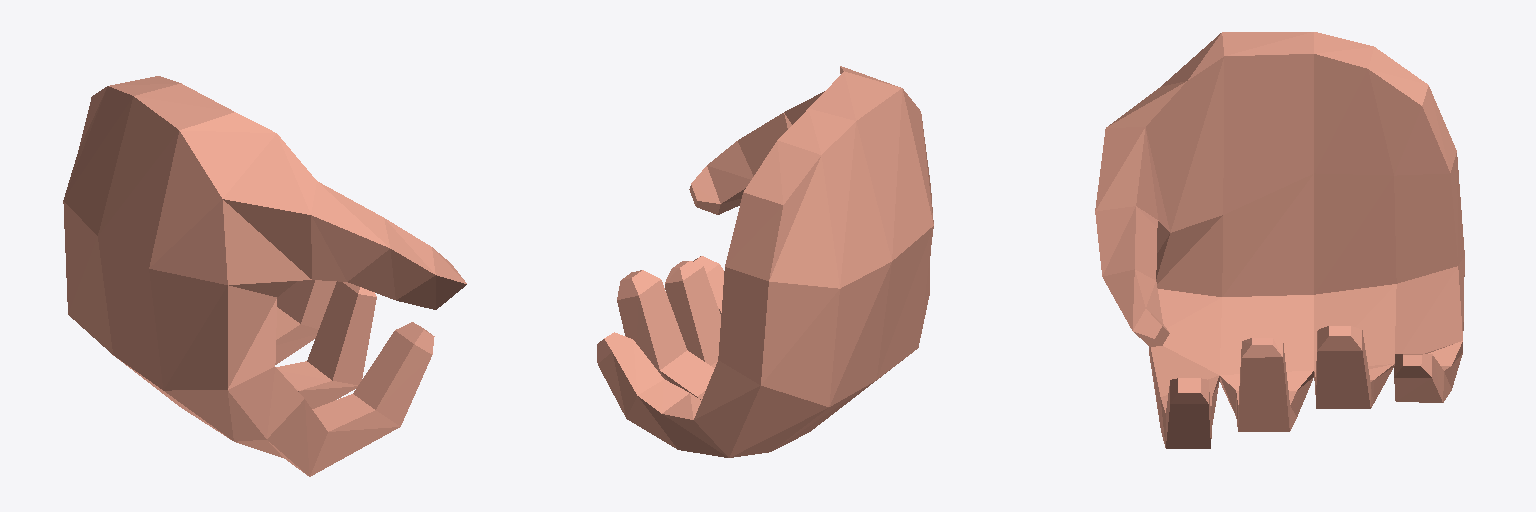
3 views of the same model, side by side, from view 1: azimuth 30°, elevation 25°; view 2: azimuth 150°, elevation 25°; view 3: azimuth 270°, elevation 25° (orthographic).
Parts seen in each view (by area): view 1: Cube; view 2: Cube; view 3: Cube.
Boxes of the visible parts, <box> form: Cube: <box>63,76,466,476</box>; Cube: <box>597,66,933,457</box>; Cube: <box>1095,32,1464,448</box>.
Bounding box in the file's own units: 0.0886 × 0.1055 × 0.1005.
Materials: 1 (1 with a texture image).